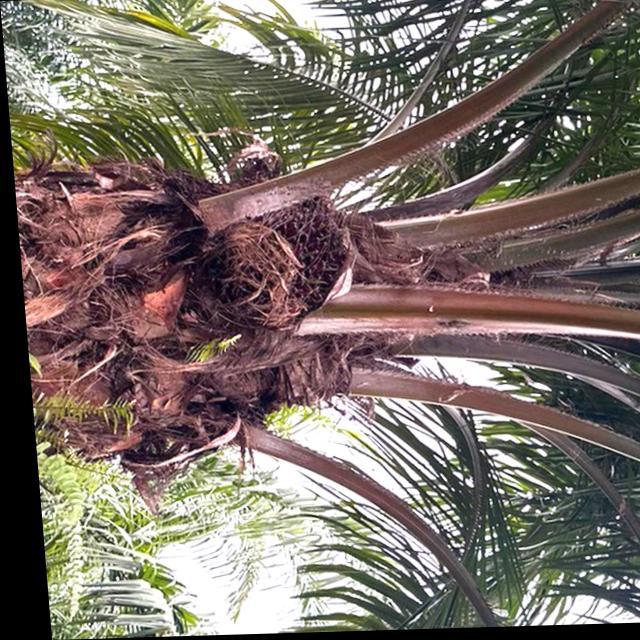ripe: (202, 174, 357, 319)
